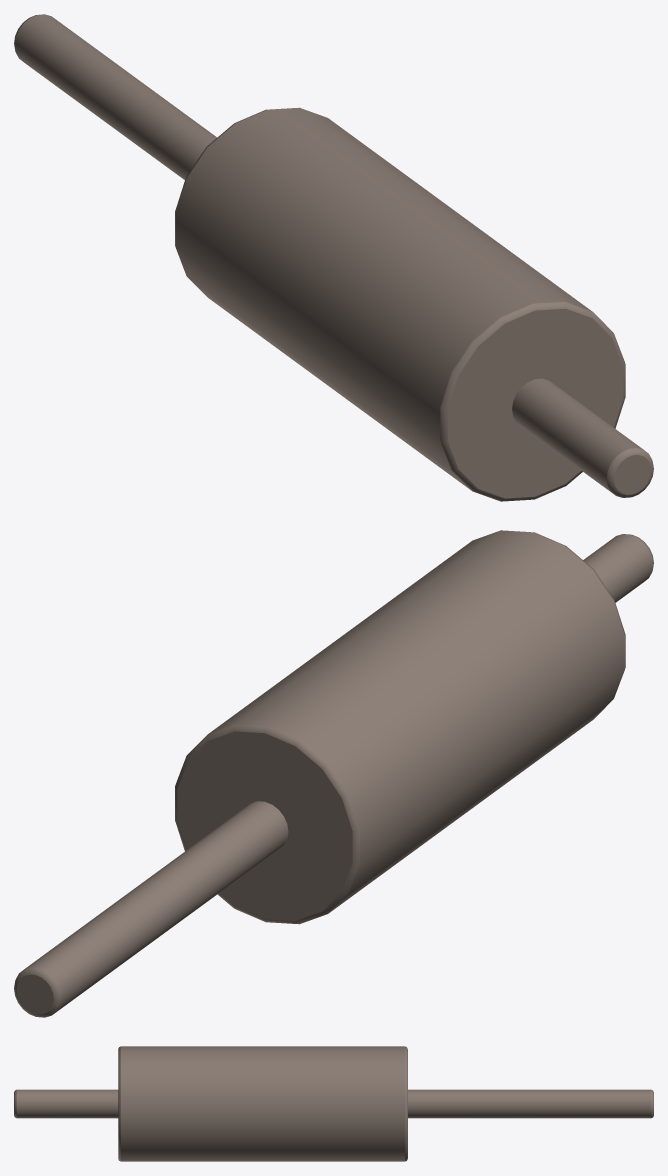
Rendered from exhaust.glb.
3 views of the same model, one above another, from view 1: azimuth 30°, elevation 25°; view 2: azimuth 150°, elevation 25°; view 3: azimuth 270°, elevation 25° (orthographic). The views are drawn at different scales.
Parts seen in each view (by area): view 1: exhaust; view 2: exhaust; view 3: exhaust.
Part boxes in pixels (<box>): exhaust: <box>14,14,653,501</box>; exhaust: <box>14,530,653,1017</box>; exhaust: <box>14,1046,653,1161</box>.
Size of the model in its own units: 0.197 by 0.2 by 1.1.
